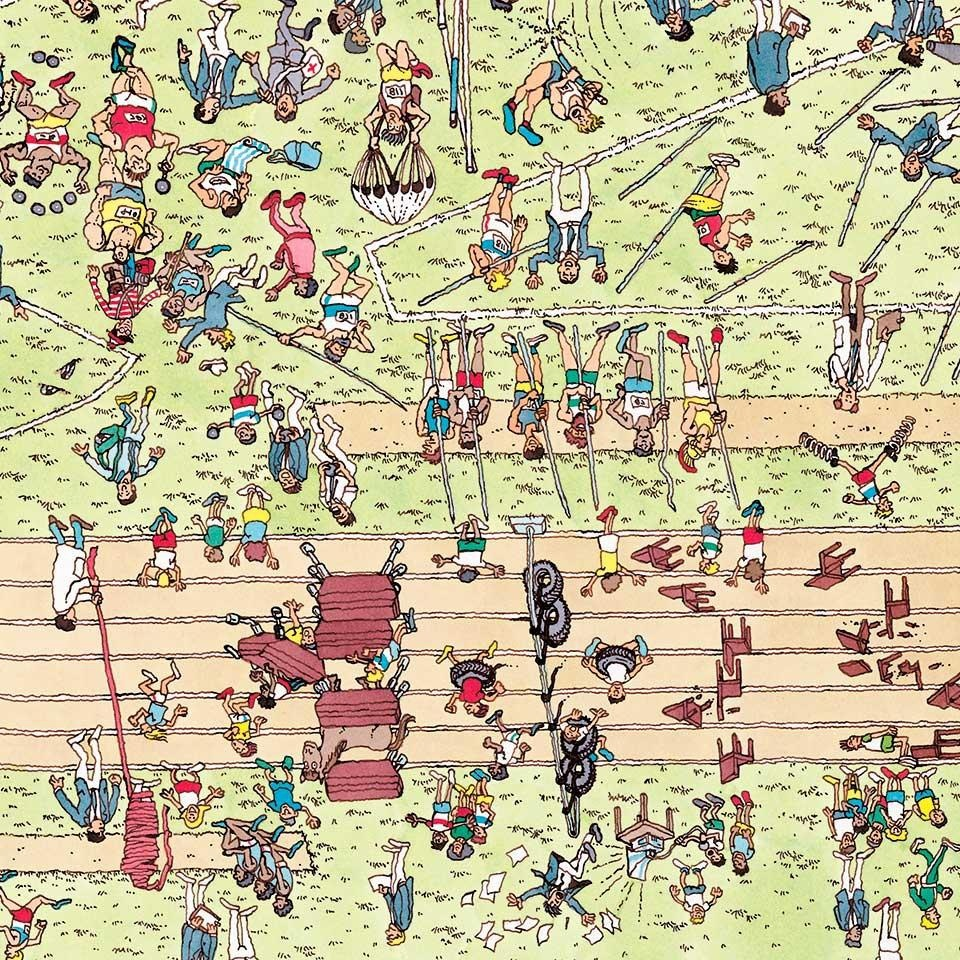waldo: (88, 258, 167, 351)
